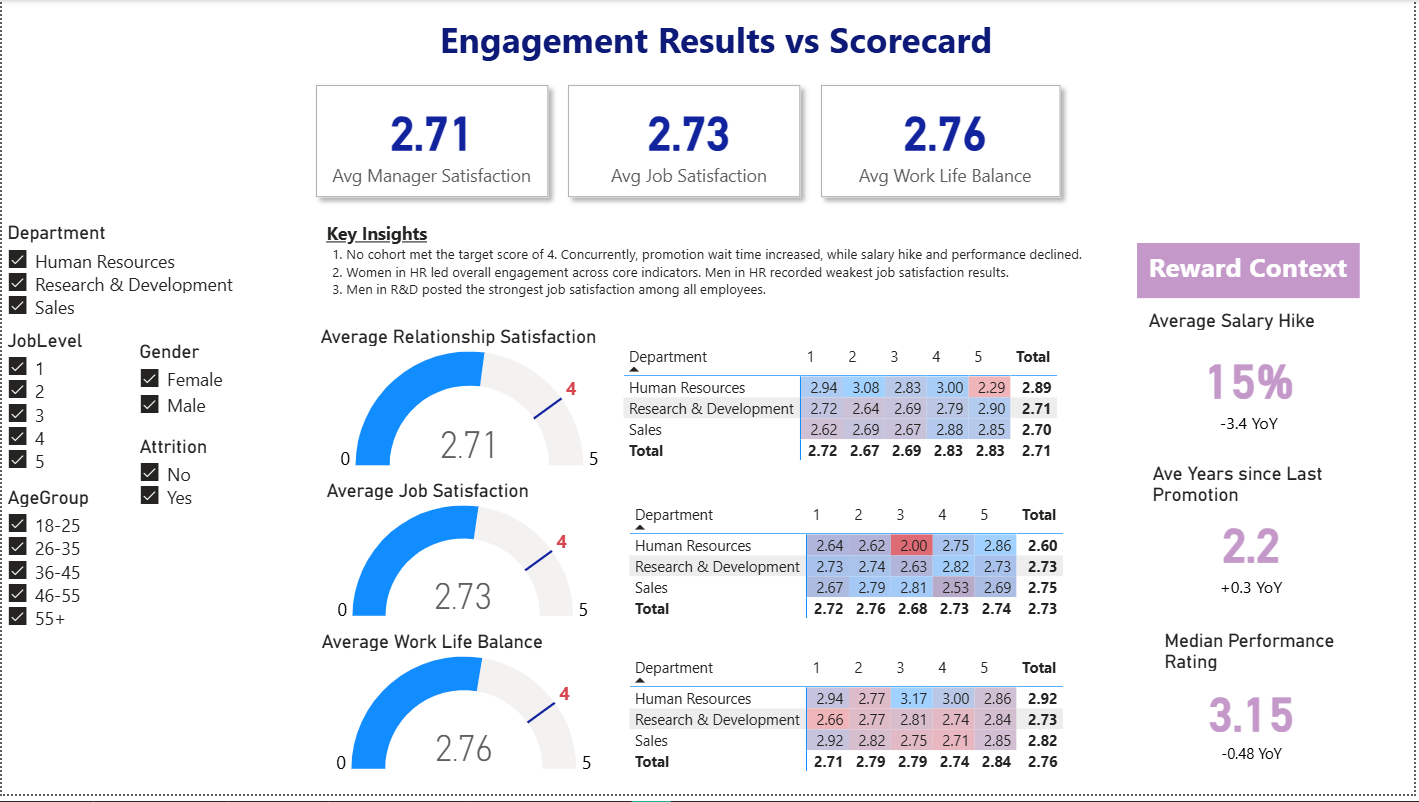

This screenshot's page, from the dashboard's own definition file:
{"tool":"powerbi","page":{"name":"EngagementVSReward","canvas":[1280,720],"ordinal":3},"visuals":[{"type":"card","title":"Median Performance Rating","fields":{"Values":["Avg(Table 1 (HR_Analytics).PerformanceRating)"]},"box":[1049.2,570.3,167.8,125.3],"z":1000},{"type":"card","title":"Average Salary Hike","fields":{"Values":["Table 1 (HR_Analytics).Avg Salary Hike %"]},"box":[1035,280.5,191.7,123.1],"z":2000},{"type":"card","title":"Ave Years since Last Promotion","fields":{"Values":["Avg(Table 1 (HR_Analytics).YearsSinceLastPromotion)"]},"box":[1038.3,418.8,188.5,124.2],"z":3000},{"type":"shape","box":[275.7,67.9,228.8,119.8],"z":4000},{"type":"shape","box":[504.5,67.9,228.8,119.8],"z":5000},{"type":"shape","box":[733.2,67.9,235.3,119.8],"z":6000},{"type":"gauge","title":"Average Relationship Satisfaction","fields":{"Y":["Avg(Table 1 (HR_Analytics).RelationshipSatisfaction)"],"MinValue":["Table 1 (HR_Analytics).Gauge Min"],"MaxValue":["Table 1 (HR_Analytics).Gauge Max"],"TargetValue":["Table 1 (HR_Analytics).Gauge Target"]},"box":[283.9,294.9,280,137.3],"z":7000},{"type":"listSlicer","fields":{"Values":["Table 1 (HR_Analytics).Department"]},"box":[0,196.1,240,240],"z":8000},{"type":"listSlicer","fields":{"Values":["Table 1 (HR_Analytics).Gender"]},"box":[120,308.1,120,264],"z":9000},{"type":"listSlicer","fields":{"Values":["Table 1 (HR_Analytics).JobLevel"]},"box":[0,298,119.7,247.1],"z":10000},{"type":"listSlicer","fields":{"Values":["Table 1 (HR_Analytics).Attrition"]},"box":[119.7,394.8,119.7,247.1],"z":11000},{"type":"listSlicer","fields":{"Values":["Table 1 (HR_Analytics).AgeGroup"]},"box":[0,440.7,119.7,243.3],"z":12000},{"type":"gauge","title":"Average Job Satisfaction","fields":{"MinValue":["Table 1 (HR_Analytics).Gauge Min"],"MaxValue":["Table 1 (HR_Analytics).Gauge Max"],"TargetValue":["Table 1 (HR_Analytics).Gauge Target"],"Y":["Table 1 (HR_Analytics).Avg Job Satisfaction"]},"box":[289.4,434.3,257.1,134],"z":13000},{"type":"gauge","title":"Average Work Life Balance","fields":{"MinValue":["Table 1 (HR_Analytics).Gauge Min"],"MaxValue":["Table 1 (HR_Analytics).Gauge Max"],"TargetValue":["Table 1 (HR_Analytics).Gauge Target"],"Y":["Avg(Table 1 (HR_Analytics).WorkLifeBalance)"]},"box":[284.8,571.2,268.1,135.9],"z":14000},{"type":"textbox","box":[364.5,8.2,565.8,53.5],"z":15000},{"type":"textbox","box":[289.3,195.9,703.7,80.7],"z":16000},{"type":"pivotTable","fields":{"Rows":["Table 1 (HR_Analytics).Department"],"Columns":["Table 1 (HR_Analytics).JobLevel"],"Values":["Table 1 (HR_Analytics).Avg Job Satisfaction"]},"box":[563.9,451.7,408.5,126.4],"z":17000},{"type":"pivotTable","fields":{"Rows":["Table 1 (HR_Analytics).Department"],"Columns":["Table 1 (HR_Analytics).JobLevel"],"Values":["Table 1 (HR_Analytics).Avg Work Life Balance"]},"box":[563.9,590.1,408.5,126.4],"z":18000},{"type":"pivotTable","fields":{"Rows":["Table 1 (HR_Analytics).Department"],"Columns":["Table 1 (HR_Analytics).JobLevel"],"Values":["Table 1 (HR_Analytics).Avg Manager Satisfaction"]},"box":[558.4,307.9,408.5,126.4],"z":19000},{"type":"card","fields":{"Values":["Table 1 (HR_Analytics).Avg Manager Satisfaction"]},"box":[286.6,81,205.9,93.7],"z":20000},{"type":"card","fields":{"Values":["Table 1 (HR_Analytics).Avg Job Satisfaction"]},"box":[528.4,81,188.5,93.7],"z":21000},{"type":"card","fields":{"Values":["Table 1 (HR_Analytics).Avg Work Life Balance"]},"box":[763.7,81,183,93.7],"z":22000},{"type":"textbox","box":[1029.5,220.6,201.5,50.1],"z":23000}]}

Visuals, with their boxes in screenshot pixels (x1, y1, x2, y2), scaled from the page's 1280x720 canvas onto the 1419x802 screenshot:
"Median Performance Rating" card: box=[1163, 635, 1349, 775]
"Average Salary Hike" card: box=[1147, 312, 1360, 450]
"Ave Years since Last Promotion" card: box=[1151, 466, 1360, 605]
shape: box=[306, 76, 559, 209]
shape: box=[559, 76, 813, 209]
shape: box=[813, 76, 1074, 209]
"Average Relationship Satisfaction" gauge: box=[315, 328, 625, 481]
listSlicer - Table 1 (HR_Analytics).Department: box=[0, 218, 266, 486]
listSlicer - Table 1 (HR_Analytics).Gender: box=[133, 343, 266, 637]
listSlicer - Table 1 (HR_Analytics).JobLevel: box=[0, 332, 133, 607]
listSlicer - Table 1 (HR_Analytics).Attrition: box=[133, 440, 265, 715]
listSlicer - Table 1 (HR_Analytics).AgeGroup: box=[0, 491, 133, 762]
"Average Job Satisfaction" gauge: box=[321, 484, 606, 633]
"Average Work Life Balance" gauge: box=[316, 636, 613, 788]
textbox: box=[404, 9, 1031, 69]
textbox: box=[321, 218, 1101, 308]
pivotTable - Table 1 (HR_Analytics).Department x Table 1 (HR_Analytics).JobLevel: box=[625, 503, 1078, 644]
pivotTable - Table 1 (HR_Analytics).Department x Table 1 (HR_Analytics).JobLevel: box=[625, 657, 1078, 798]
pivotTable - Table 1 (HR_Analytics).Department x Table 1 (HR_Analytics).JobLevel: box=[619, 343, 1072, 484]
card - Table 1 (HR_Analytics).Avg Manager Satisfaction: box=[318, 90, 546, 195]
card - Table 1 (HR_Analytics).Avg Job Satisfaction: box=[586, 90, 795, 195]
card - Table 1 (HR_Analytics).Avg Work Life Balance: box=[847, 90, 1050, 195]
textbox: box=[1141, 246, 1365, 302]
